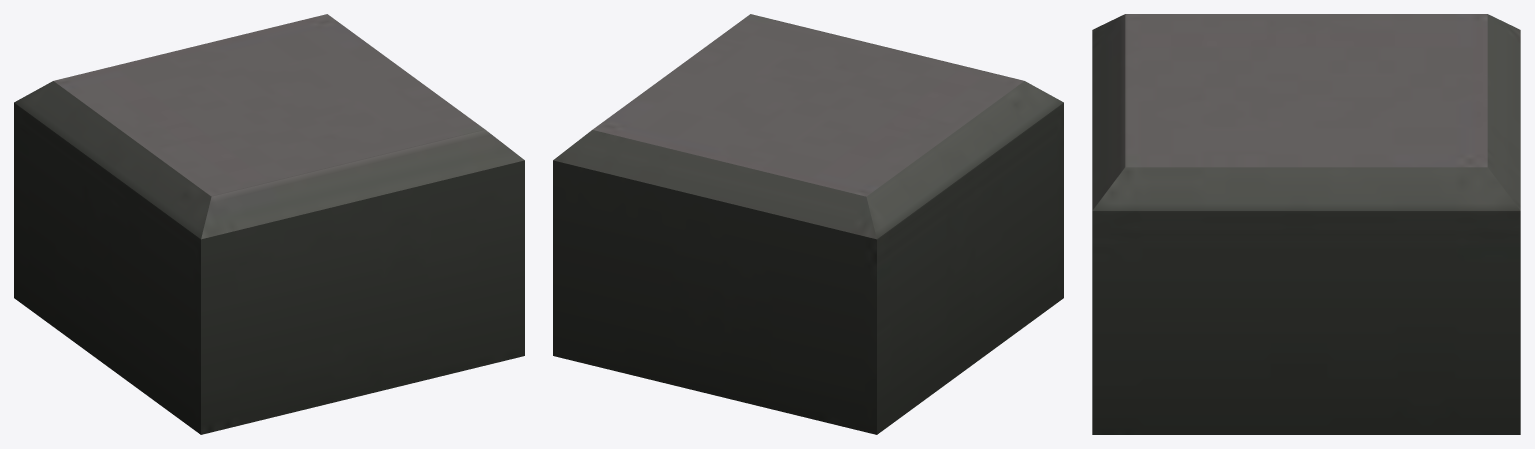
File: electric-furnace.glb
The picture shows the model from 3 angles, left to right: view 1: azimuth 30°, elevation 25°; view 2: azimuth 150°, elevation 25°; view 3: azimuth 270°, elevation 25°; orthographic projection. The views are drawn at different scales.
Visible parts, largest first — view 1: electric-furnace; view 2: electric-furnace; view 3: electric-furnace.
Part boxes in pixels (left/top/right/bottom): electric-furnace: left=14, top=14, right=524, bottom=434; electric-furnace: left=553, top=14, right=1063, bottom=434; electric-furnace: left=1092, top=14, right=1520, bottom=434.
Size of the model in its own units: 0.26 by 0.17 by 0.26.
Materials: 1 (1 with a texture image).
